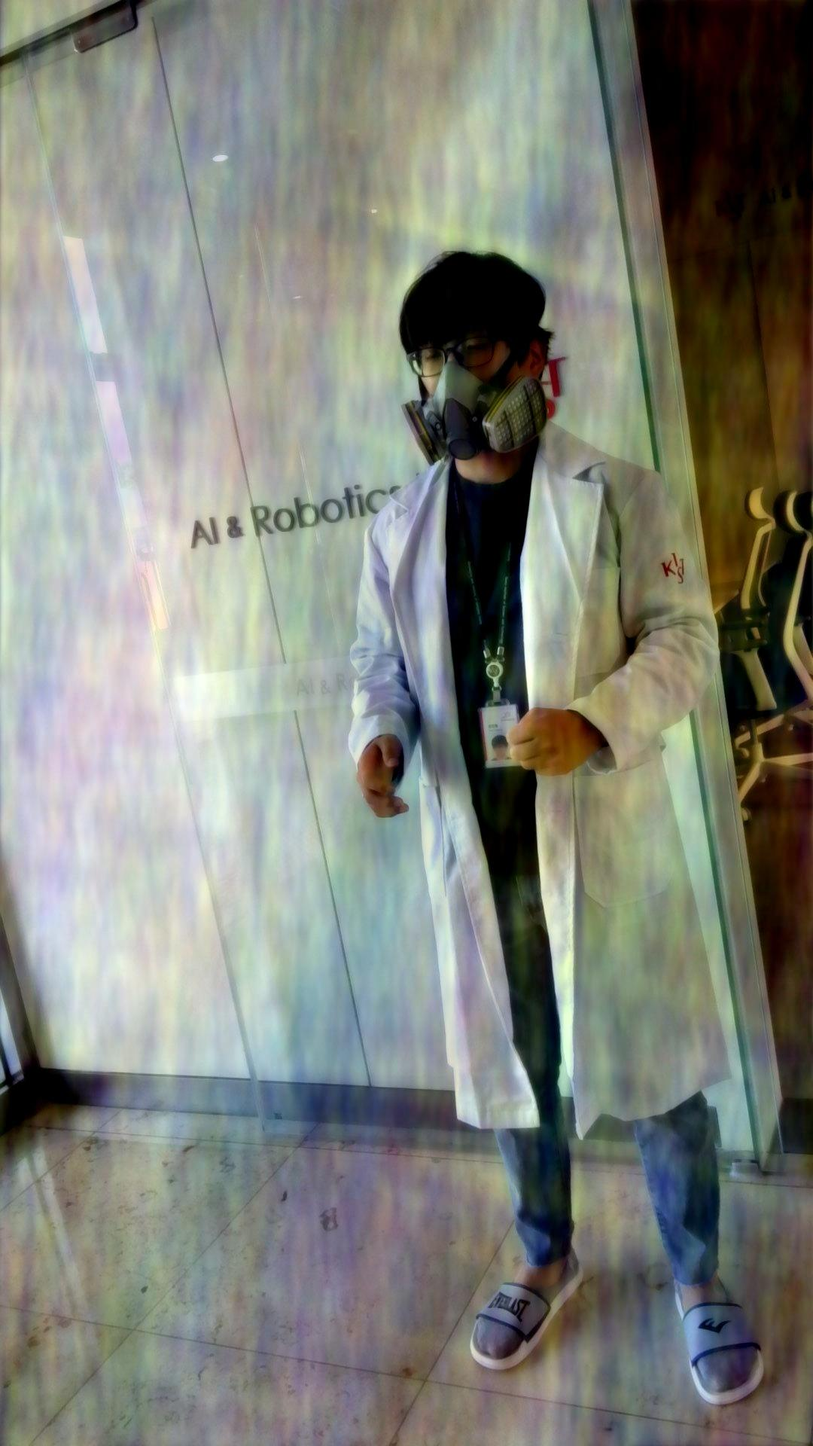Lab_coat: (346, 418, 734, 1143)
